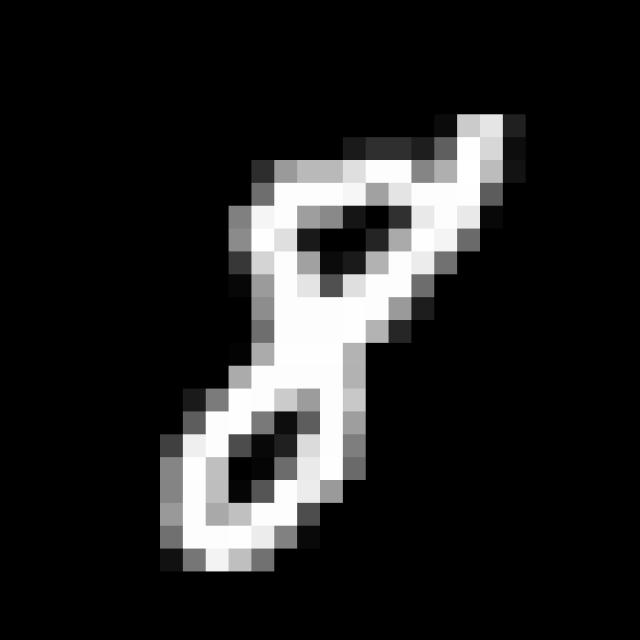eight -8-: (165, 103, 510, 575)
